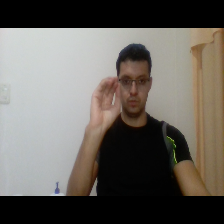left: (86, 74, 132, 132)
